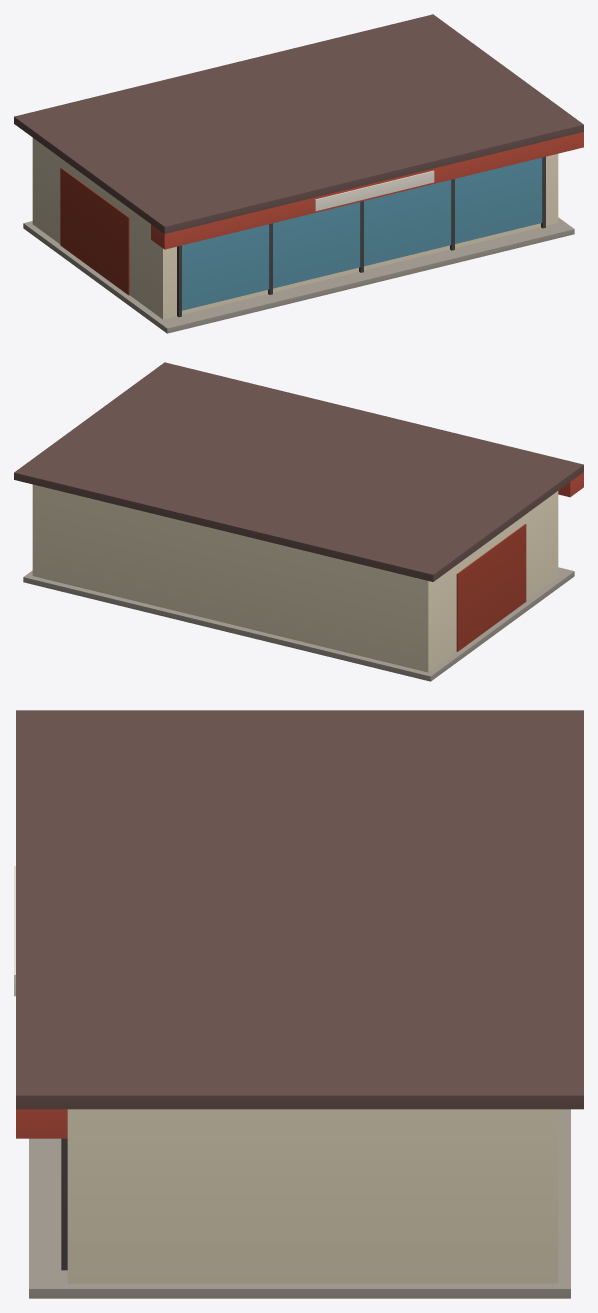
File: shop_building.glb
The picture shows the model from 3 angles, top to bottom: view 1: azimuth 30°, elevation 25°; view 2: azimuth 150°, elevation 25°; view 3: azimuth 270°, elevation 25°; orthographic projection. The views are drawn at different scales.
Parts seen in each view (by area): view 1: shop_building; view 2: shop_building; view 3: shop_building.
Part boxes in pixels (left/top/right/bottom): shop_building: left=14, top=14, right=583, bottom=333; shop_building: left=14, top=362, right=583, bottom=681; shop_building: left=14, top=710, right=583, bottom=1298.
Bounding box in the file's own units: 21.2 × 5.35 × 13.25.
Materials: 2 (2 with a texture image).
